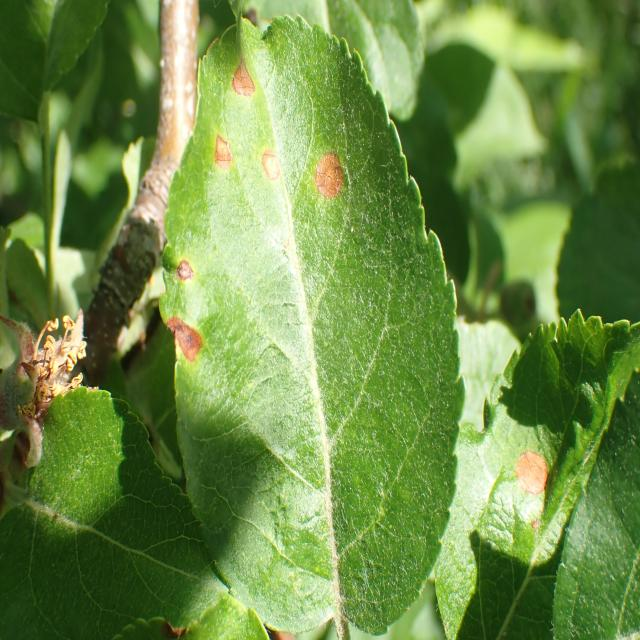Black Rot: (508, 434, 560, 537), (155, 305, 213, 368), (301, 146, 358, 208), (246, 133, 286, 205), (222, 56, 264, 104), (202, 118, 234, 180), (168, 254, 212, 295)
